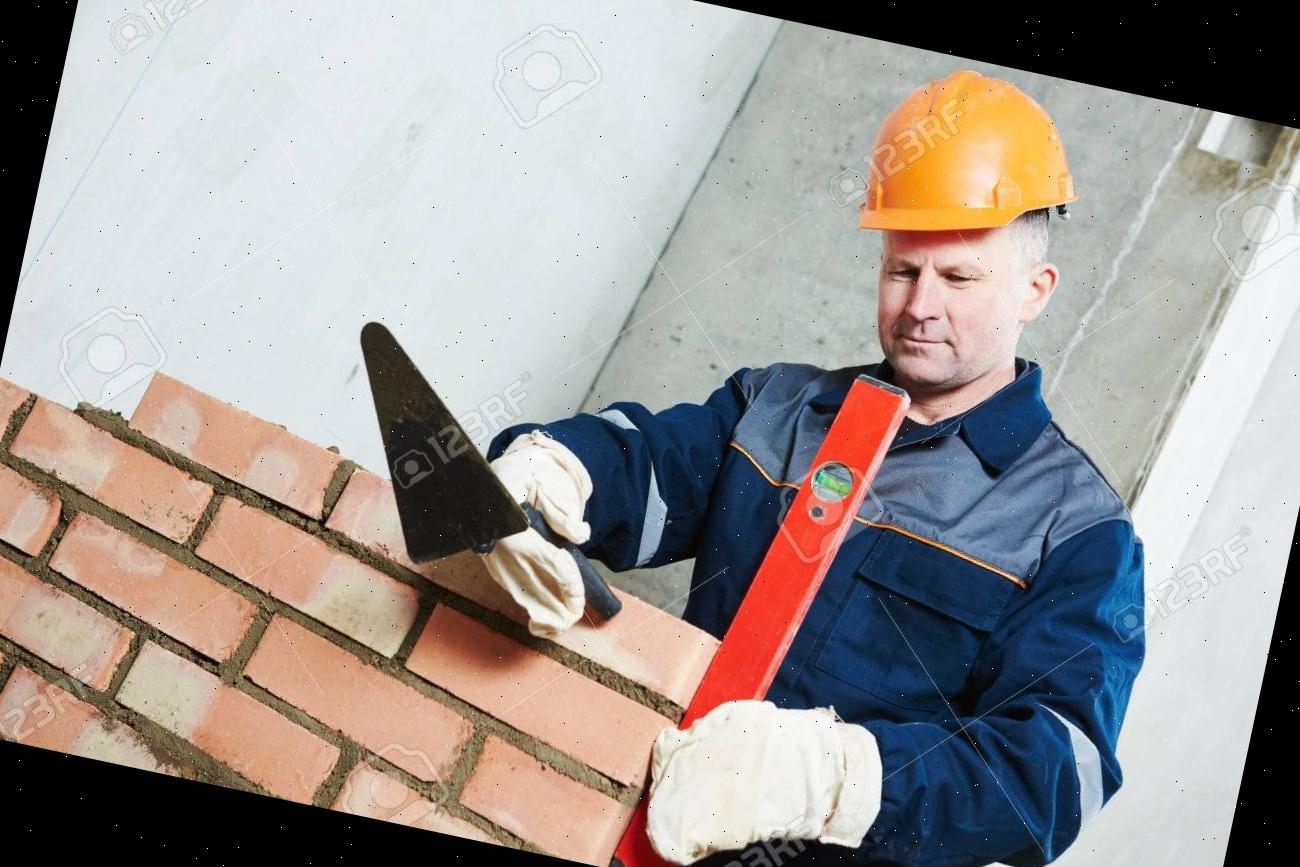helmet: (849, 48, 1104, 274)
wear: (617, 360, 1182, 867)
